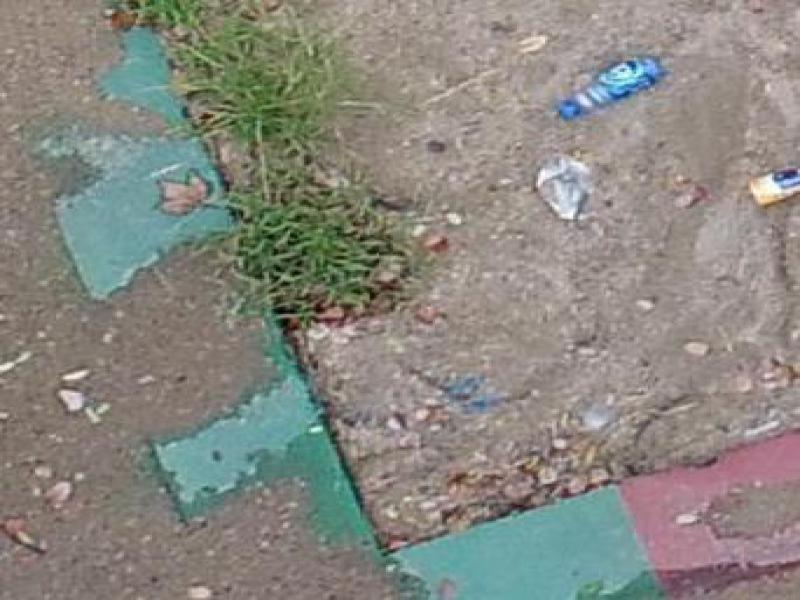bottle: (543, 45, 674, 130), (734, 162, 796, 210)
